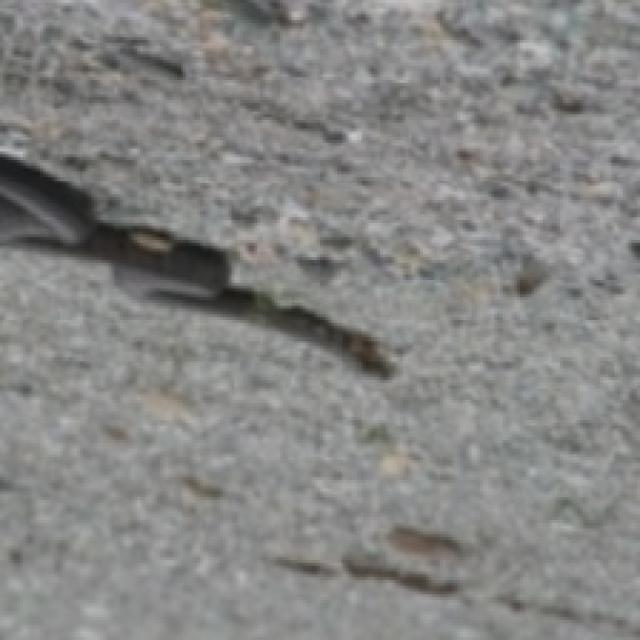king cobra: (0, 151, 391, 374)
